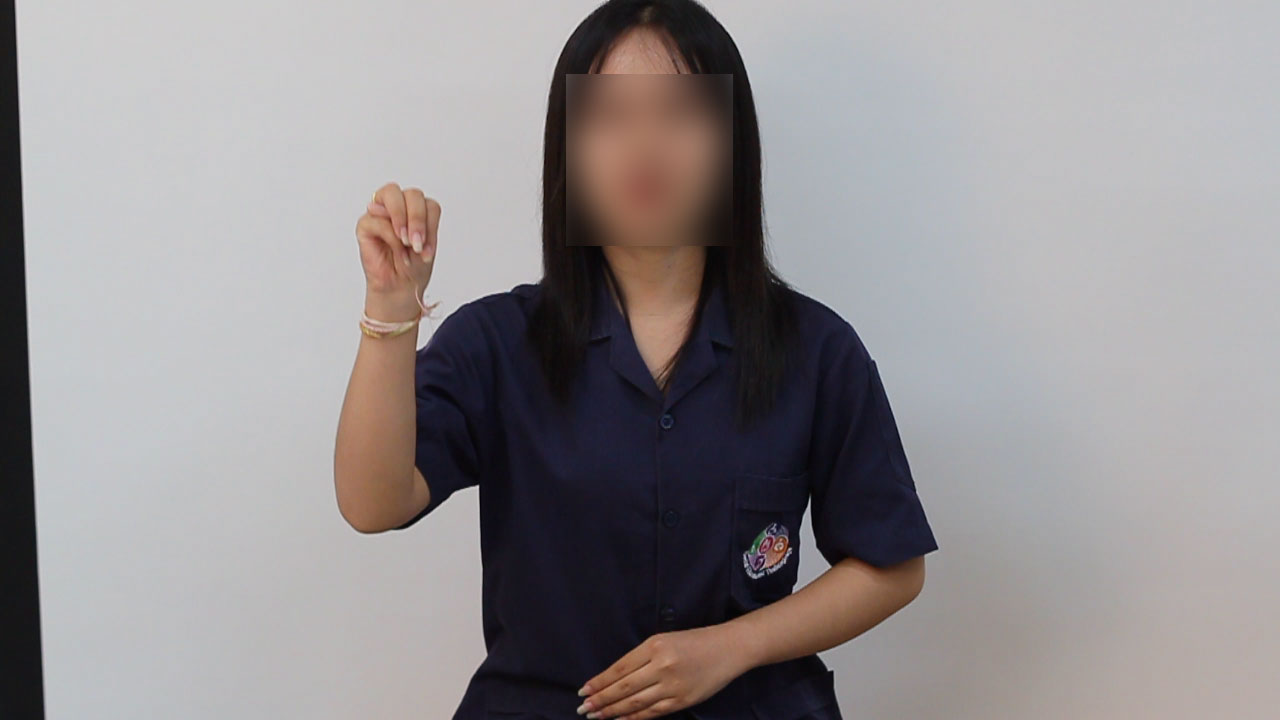mor: (343, 173, 456, 300)
